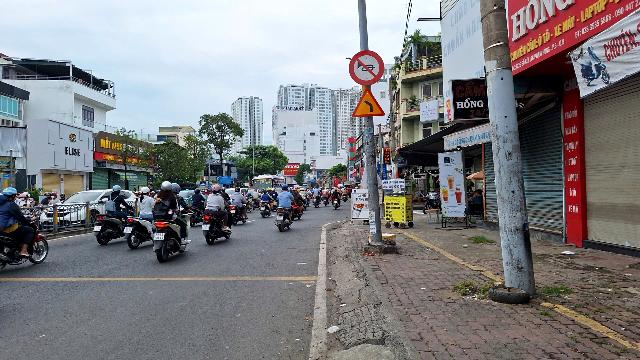cam-bop-coi: (348, 49, 385, 86)
cho-ngoat-nguy-hiem-ben-trai: (352, 86, 386, 118)
